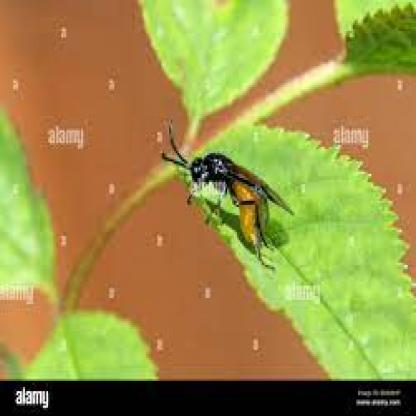sawfly: (149, 116, 301, 267)
